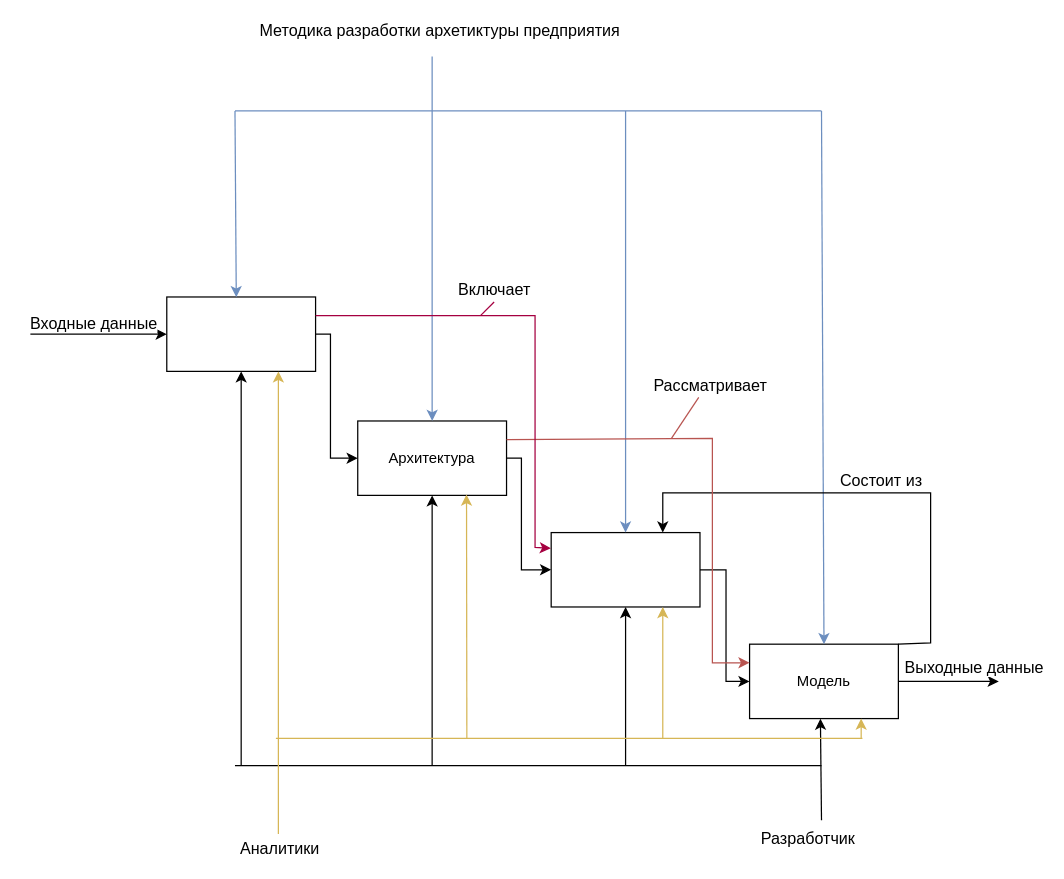
This 1064x879 diagram has some shape labels left out. The centre of each missing label's shape, as x and y in pixels:
"Представление" belongs at (625,569).
"Система" belongs at (241,333).
